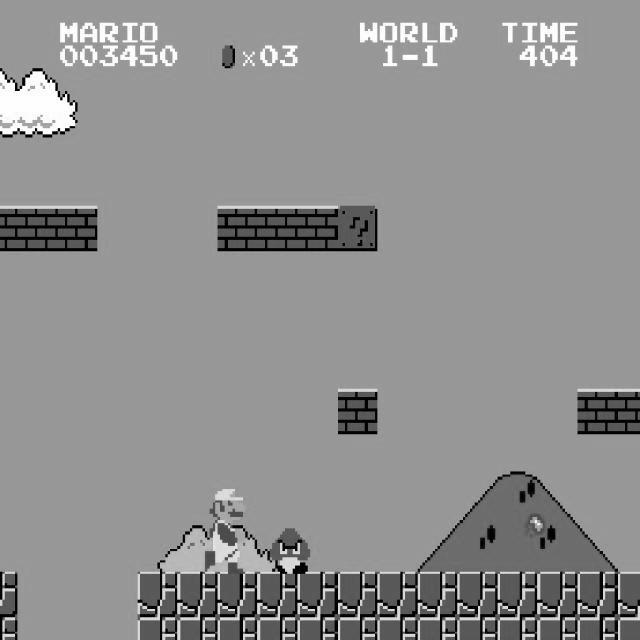1- brick_block: (337, 388, 378, 434), (577, 388, 618, 434), (17, 206, 58, 251), (57, 206, 98, 251), (217, 206, 258, 251), (257, 206, 298, 251), (297, 206, 338, 251), (618, 388, 640, 434), (0, 205, 17, 251)
13- mystery_block: (337, 206, 378, 251)
17- undestructible_block: (137, 572, 178, 618), (177, 572, 218, 618), (217, 572, 258, 618), (257, 572, 298, 618), (297, 572, 338, 618), (337, 572, 378, 618), (377, 572, 418, 618), (417, 572, 458, 618), (457, 572, 498, 618), (497, 572, 538, 618), (537, 572, 578, 618), (577, 572, 618, 618), (618, 572, 640, 618), (137, 617, 178, 640), (177, 617, 218, 640), (217, 617, 258, 640), (257, 617, 298, 640), (297, 617, 338, 640), (337, 617, 378, 640), (377, 617, 418, 640), (417, 617, 458, 640), (457, 617, 498, 640), (497, 617, 538, 640), (537, 617, 578, 640), (577, 617, 618, 640), (0, 571, 17, 617), (618, 617, 640, 640), (0, 617, 17, 639)
4- fire_mario: (202, 480, 245, 574)
5- fireball: (525, 511, 545, 537)
8- goomba: (268, 526, 310, 574)
